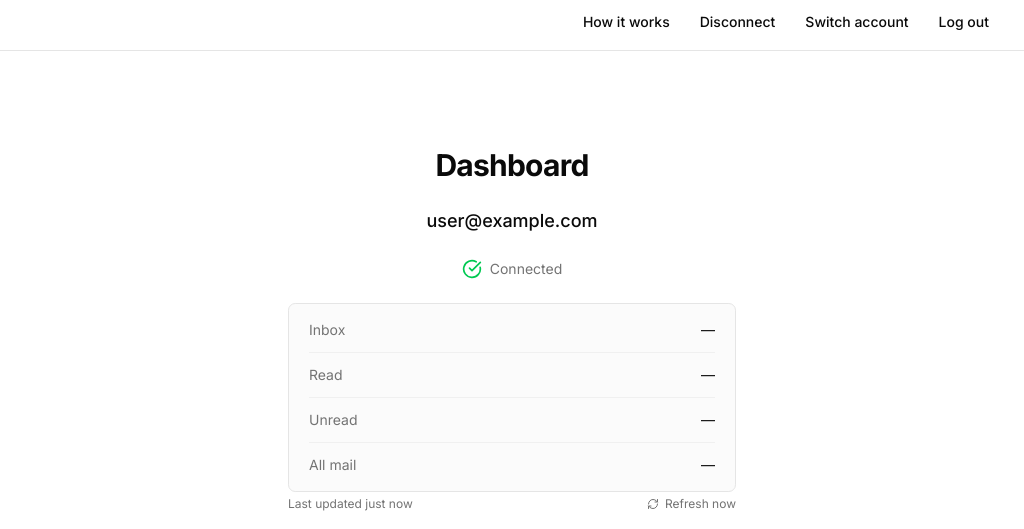
Scenario: Dashboard page › refresh › updates counts after refresh
Click the button with aria-label "refresh stats" at (692, 504), box x1=647 y1=496 x2=736 y2=512
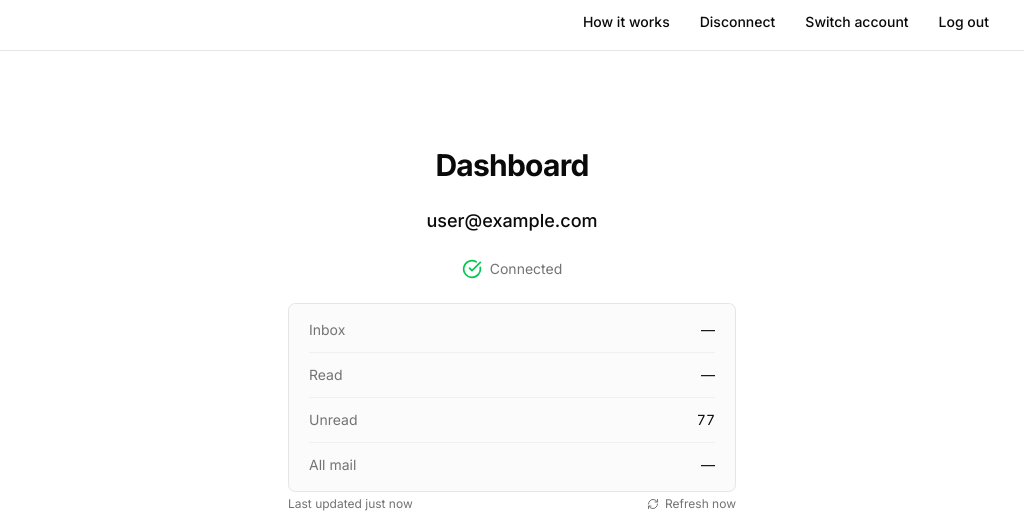
Check: the text "77" is shown, box x1=697 y1=410 x2=715 y2=430
